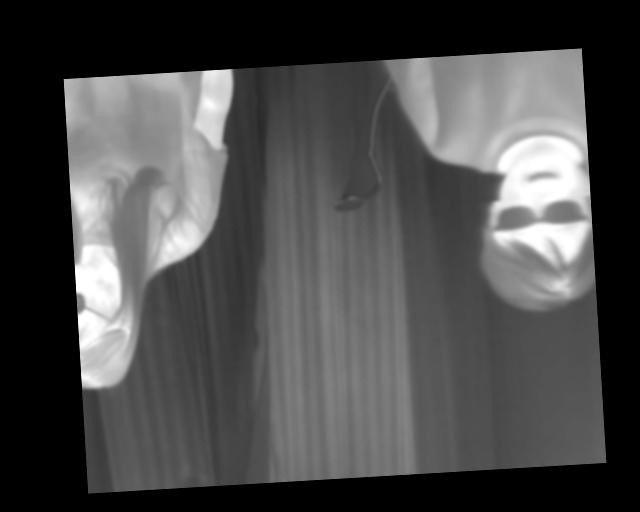face: (475, 146, 596, 314)
